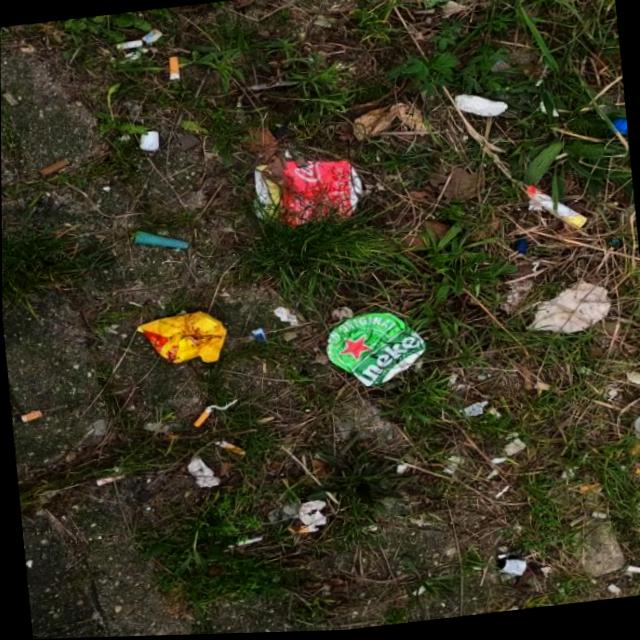Can-Metal: (310, 296, 439, 400), (242, 140, 370, 239)
